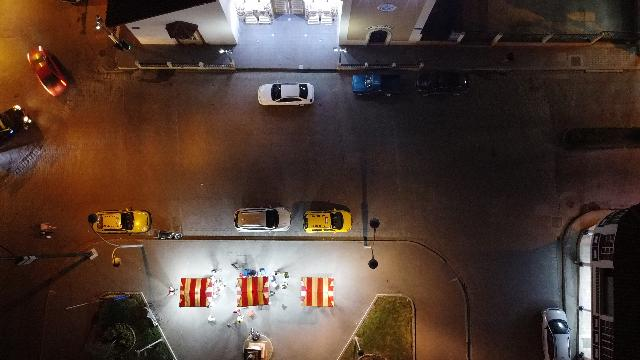Vehiculo: (28, 46, 68, 96), (234, 206, 292, 232), (542, 308, 570, 360), (416, 70, 470, 96), (94, 210, 151, 234), (258, 82, 314, 106), (1, 105, 32, 146), (352, 72, 400, 96), (304, 209, 352, 233)
